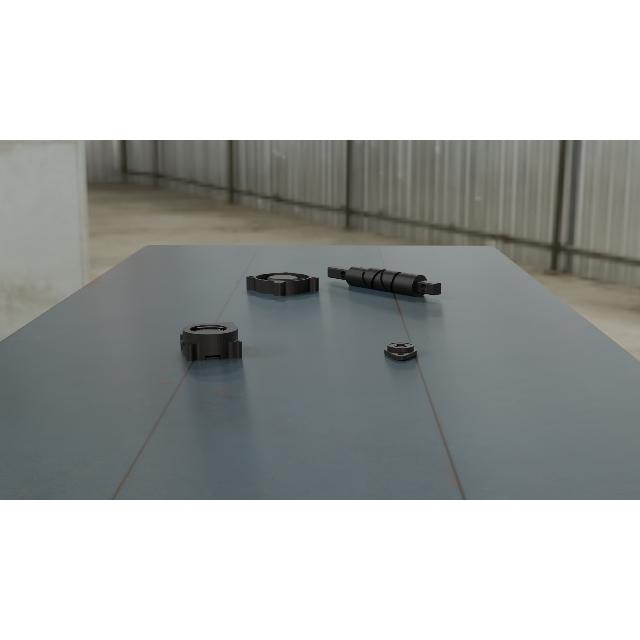Pieza1: (324, 260, 444, 302)
Pieza2: (383, 339, 417, 361)
Pieza3: (178, 322, 244, 362)
Pieza4: (243, 271, 321, 297)
